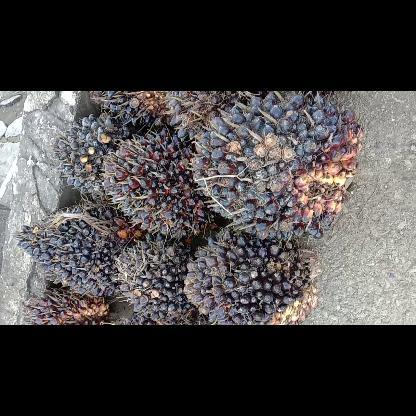TBS mentah: (188, 91, 366, 243), (181, 224, 325, 324), (99, 125, 223, 239), (11, 199, 146, 299), (112, 233, 202, 324), (51, 112, 133, 210)
